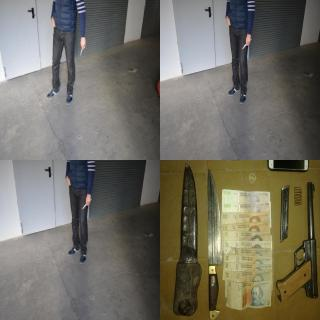knife: (204, 164, 224, 318), (240, 38, 252, 50), (81, 198, 92, 210), (79, 39, 86, 57)
